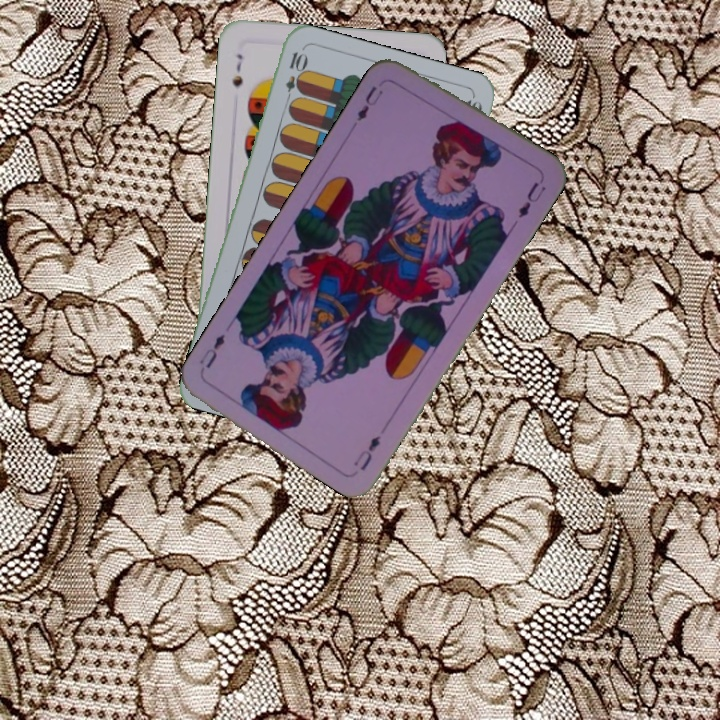E10: (281, 48, 307, 107)
EU: (349, 431, 384, 474), (352, 81, 386, 124)
S7: (228, 50, 246, 90)
